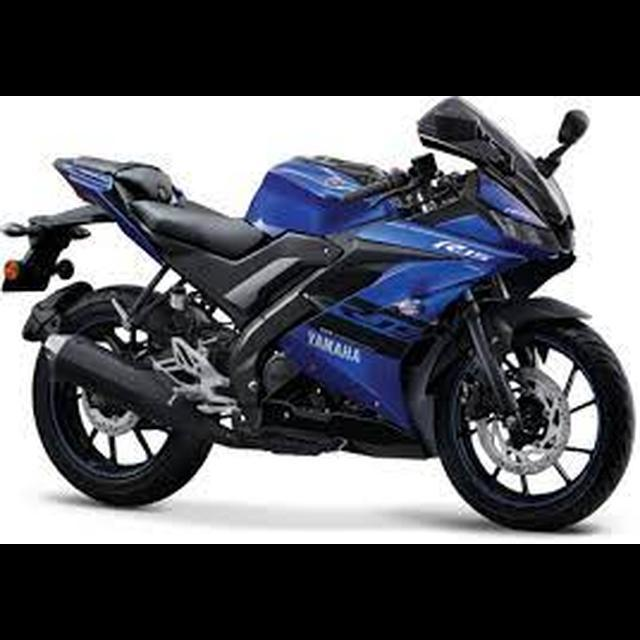motorcycle: (1, 93, 640, 533)
